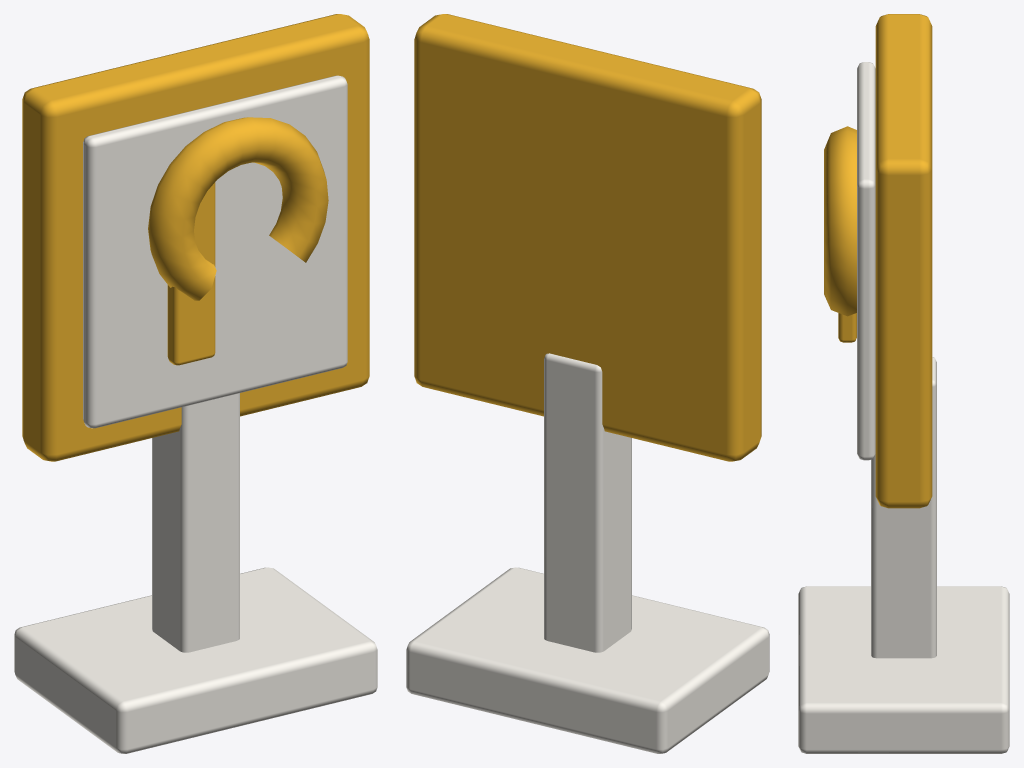
Rendered from mall-parking-sign.glb.
The picture shows the model from 3 angles, left to right: view 1: azimuth 30°, elevation 25°; view 2: azimuth 150°, elevation 25°; view 3: azimuth 270°, elevation 25°; orthographic projection. The views are drawn at different scales.
Parts seen in each view (by area): view 1: inside, panel, base, post, p-loop, p-stem; view 2: panel, base, post; view 3: base, panel, post, inside, p-loop, p-stem.
Part boxes in pixels (x1=…): inside: x1=83, y1=75, x2=347, y2=428; panel: x1=22, y1=14, x2=369, y2=461; base: x1=14, y1=567, x2=377, y2=753; post: x1=152, y1=393, x2=239, y2=652; p-loop: x1=148, y1=117, x2=328, y2=300; p-stem: x1=167, y1=182, x2=215, y2=365; panel: x1=414, y1=14, x2=761, y2=461; base: x1=406, y1=567, x2=769, y2=753; post: x1=544, y1=353, x2=631, y2=652; base: x1=798, y1=586, x2=1009, y2=753; panel: x1=875, y1=14, x2=932, y2=508; post: x1=871, y1=357, x2=936, y2=658; inside: x1=857, y1=62, x2=875, y2=460; p-loop: x1=824, y1=126, x2=856, y2=316; p-stem: x1=838, y1=313, x2=856, y2=342.
Bounding box in the file's own units: 0.78 × 1.43 × 0.45.
